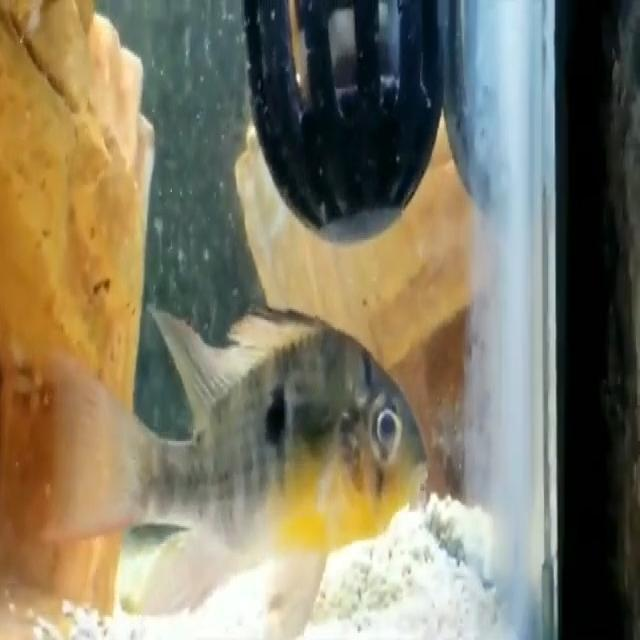fish: (42, 312, 433, 640)
